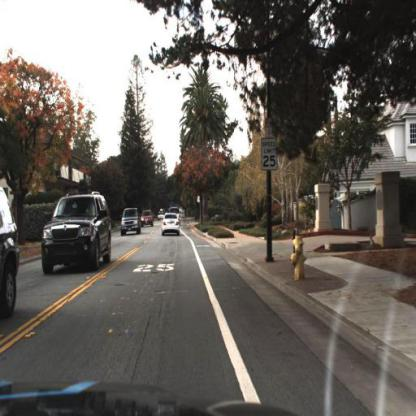car: (39, 187, 113, 276), (1, 179, 22, 332), (121, 207, 143, 236), (161, 211, 181, 238), (170, 208, 184, 234)
